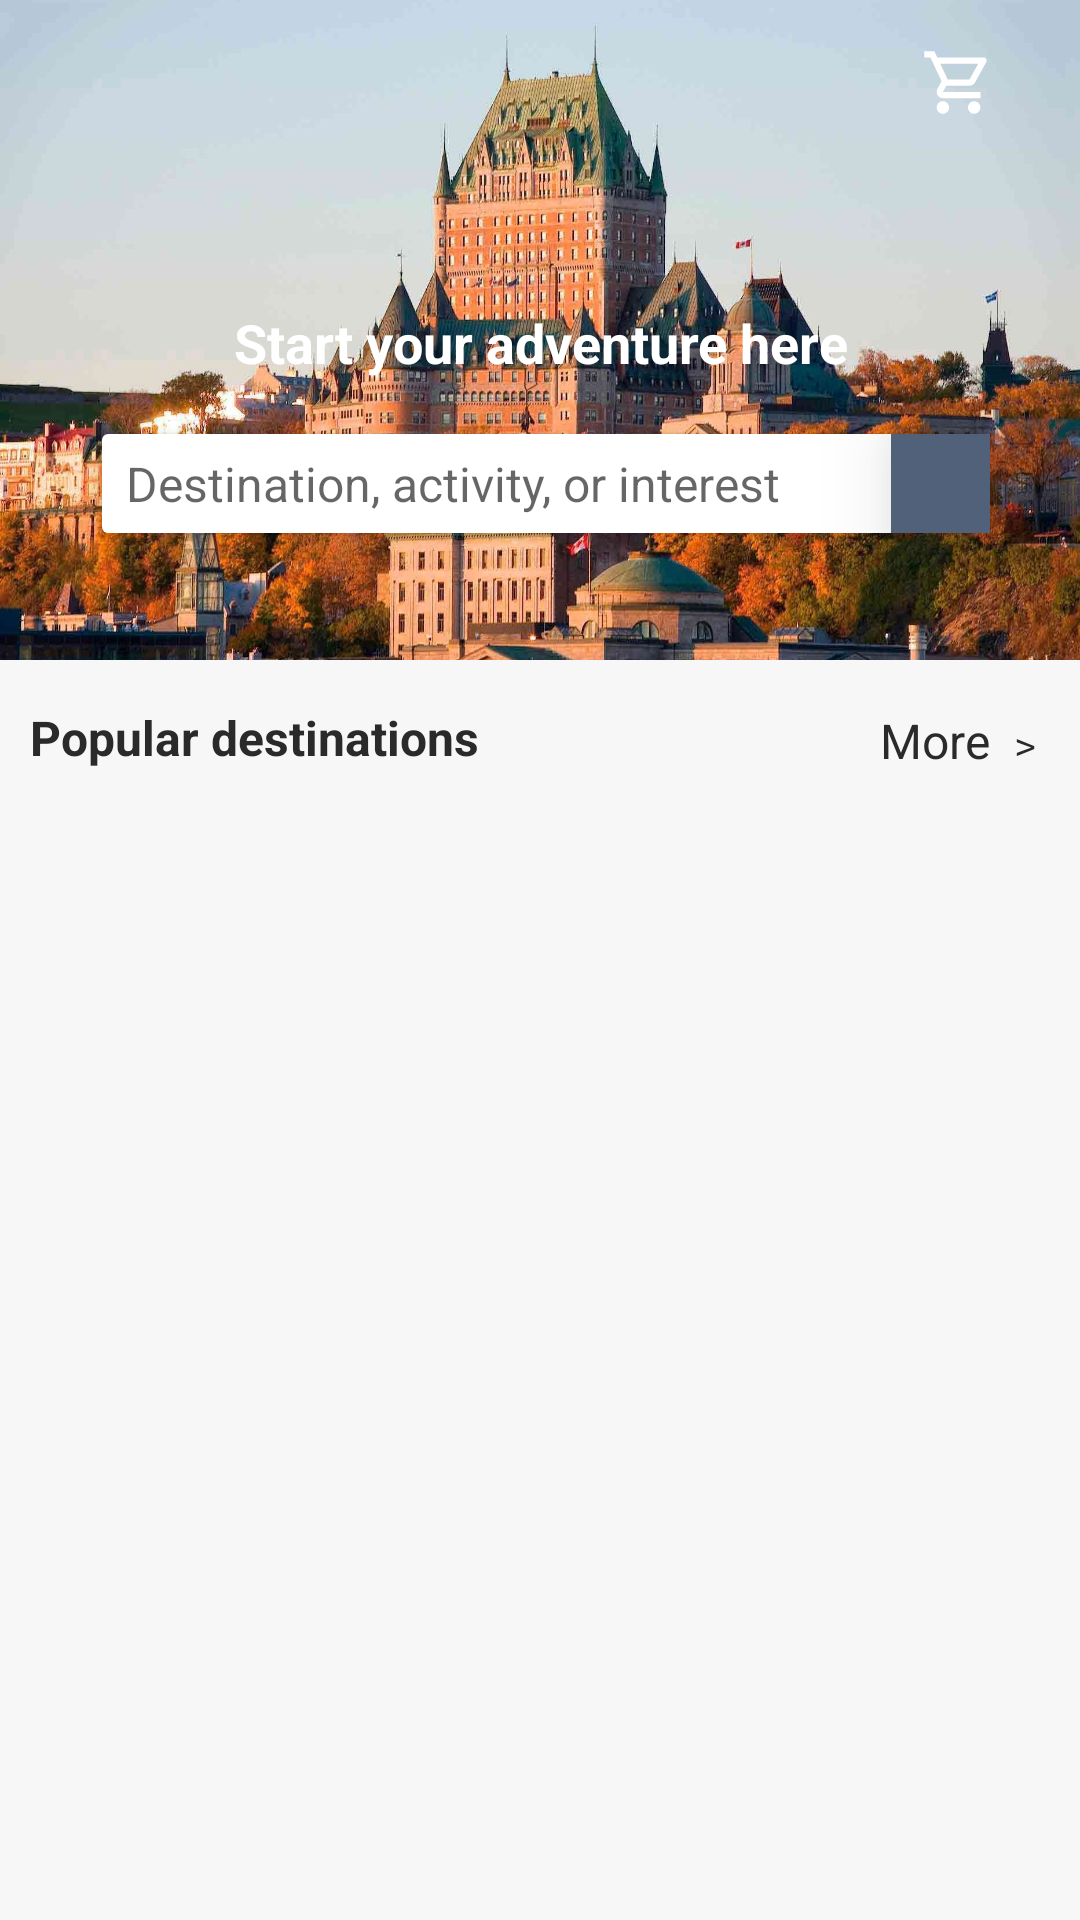

Icons on this 1080px x 1920px Android screen, each with the point to tap as [x,y]:
shopping cart: [955,82]
